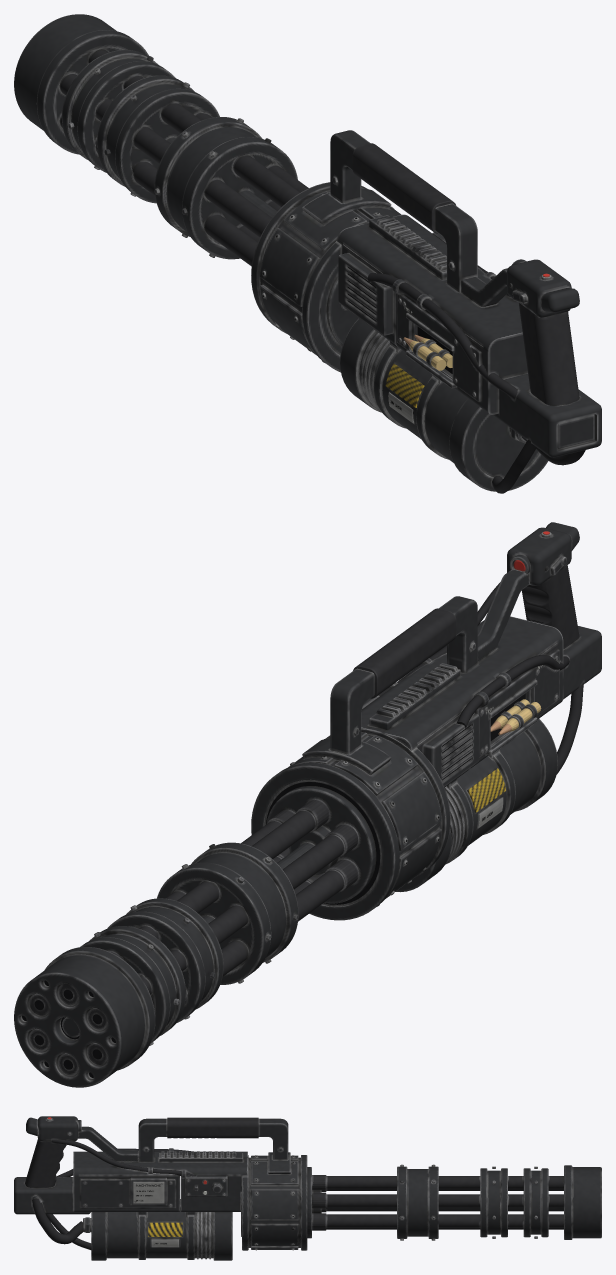
File: minigun_built.glb
3 renders of one model, top to bottom at view 1: azimuth 30°, elevation 25°; view 2: azimuth 150°, elevation 25°; view 3: azimuth 270°, elevation 25°, orthographic. The views are drawn at different scales.
Visible parts, largest first — view 1: Body, Barrels; view 2: Body, Barrels; view 3: Body, Barrels.
Boxes of the visible parts, x1,y1,x2,y2 form: Body: (251,130,601,493); Barrels: (14,14,308,266); Body: (251,522,601,920); Barrels: (14,786,376,1087); Body: (14,1116,307,1260); Barrels: (307,1164,601,1240).
Bounding box in the file's own units: 0.1611 × 0.2592 × 0.99.
1 material, 1 textured.
